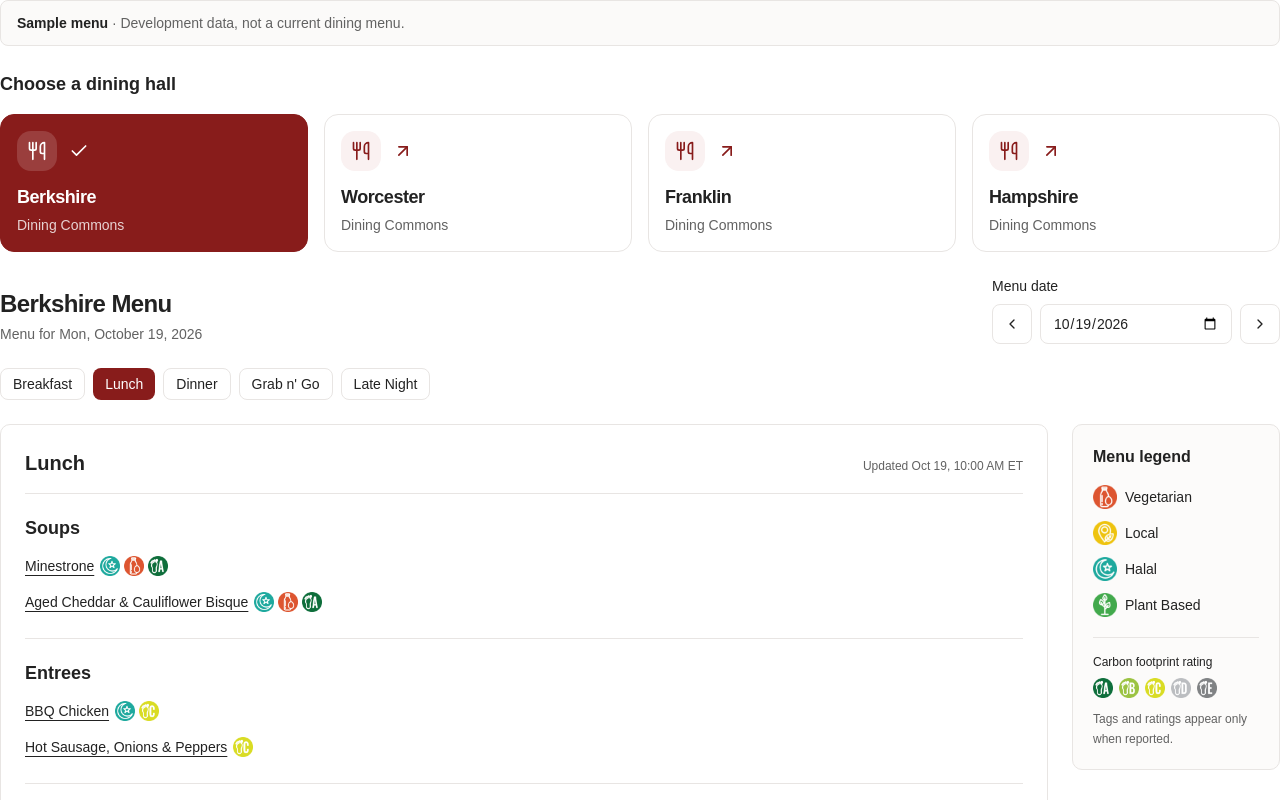
Test case: Menus › retries a failed details request and closes with Escape
Step 1. Click the button "Minestrone" → {"x": 60, "y": 566}, box [25,550,94,582]
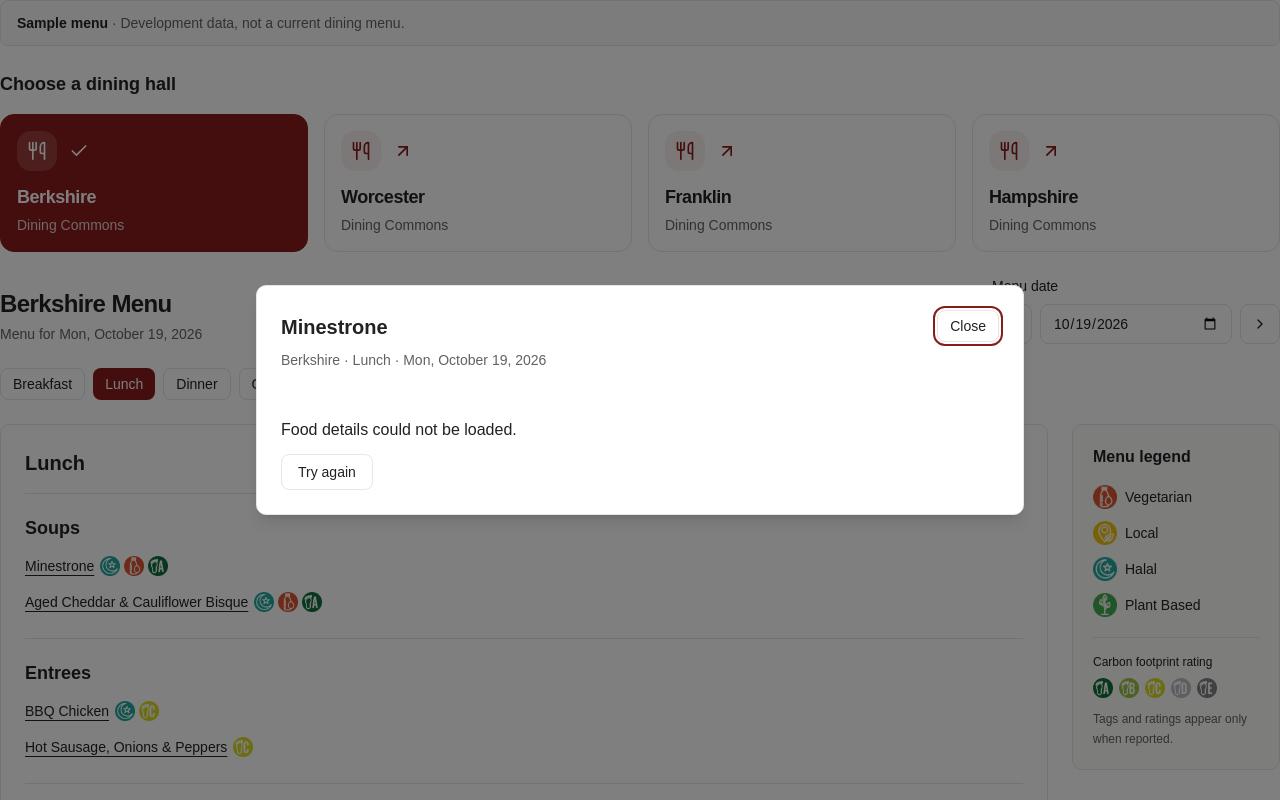
Expected: the message "Food details could not be loaded. Try again" is shown, [281,421,517,490]
Step 2. Click the button "Try again" → {"x": 327, "y": 472}, box [281,454,373,490]
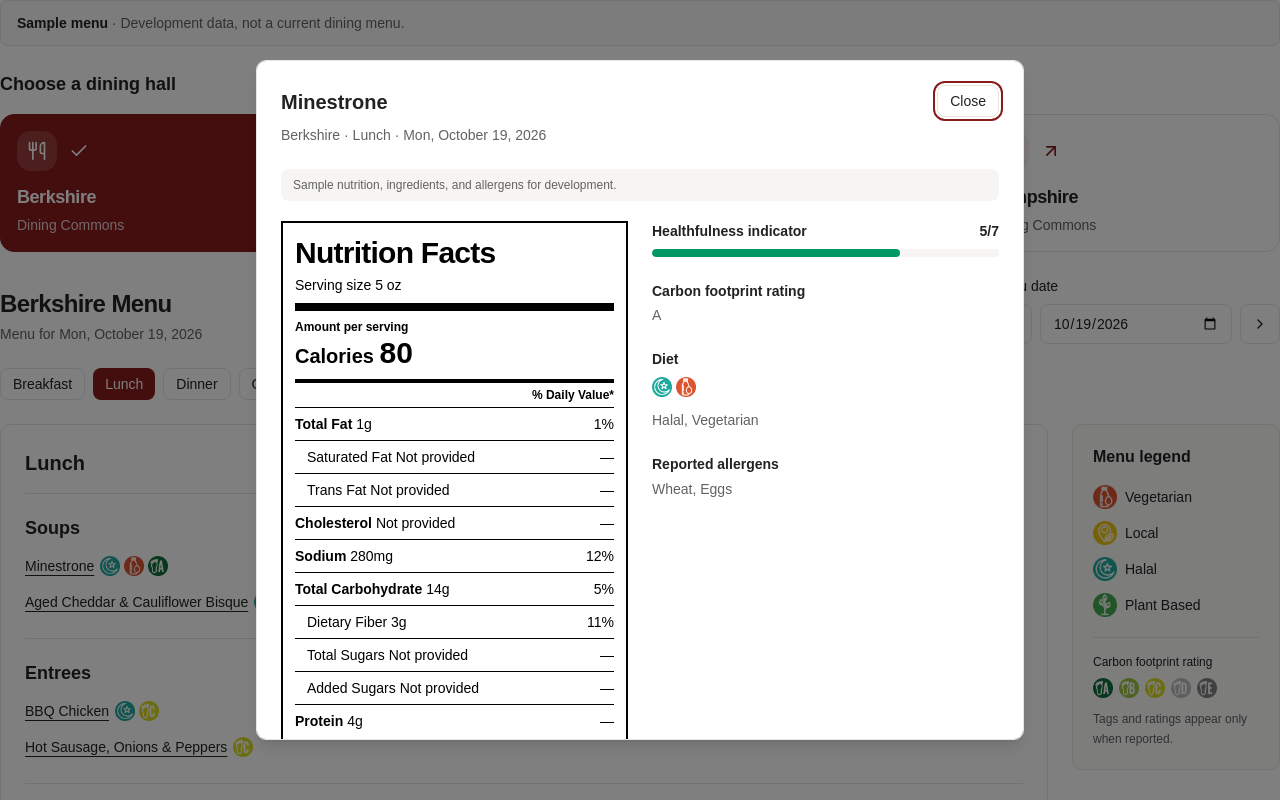
Expected: the heading "Nutrition Facts" is shown, [295,236,495,269]
Step 3. Press Escape in the dialog, box [256,60,1024,740]
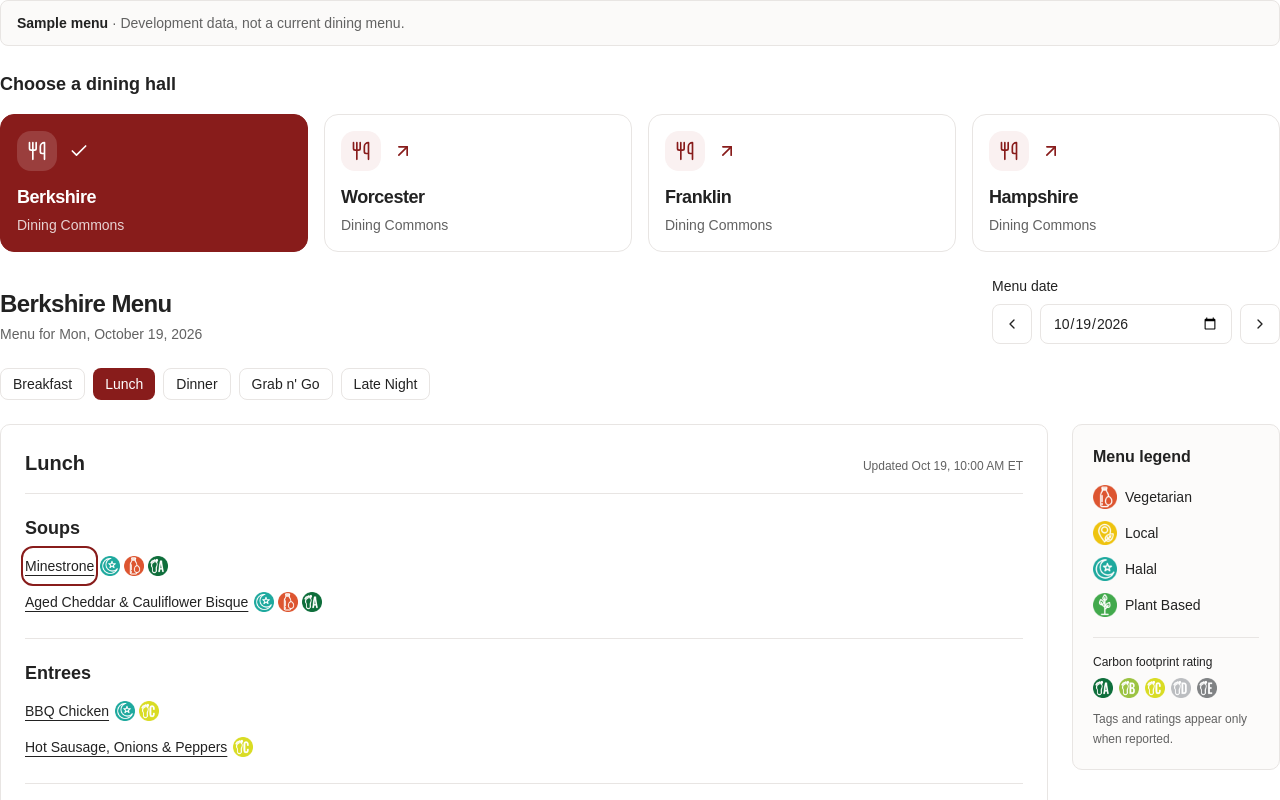
Expected: the dialog is gone
